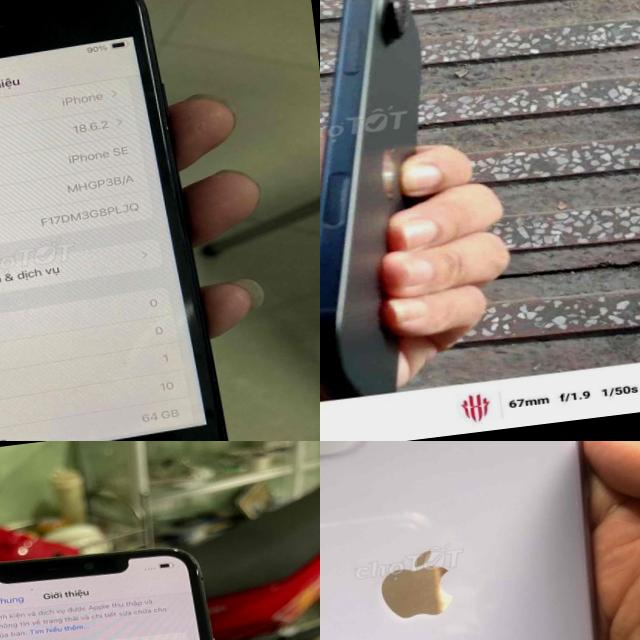gen_11: (0, 0, 244, 441), (320, 441, 640, 640), (0, 522, 284, 640)
gen_16: (320, 0, 487, 407)
